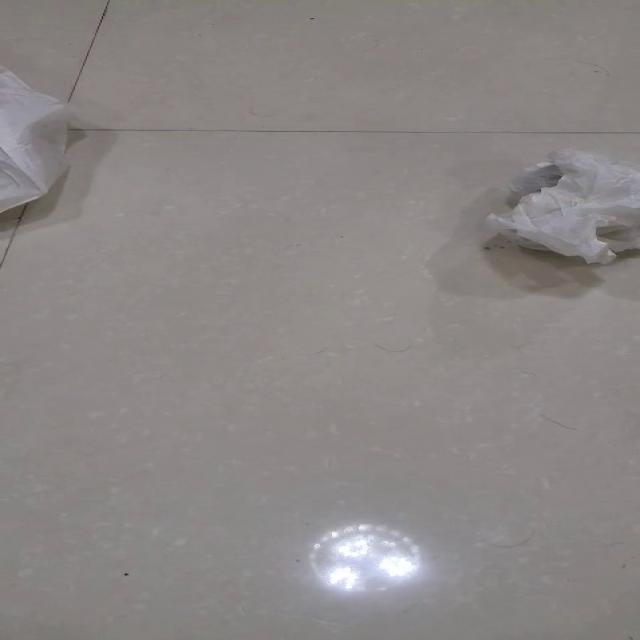plastic: (483, 148, 639, 264), (0, 64, 72, 213)
